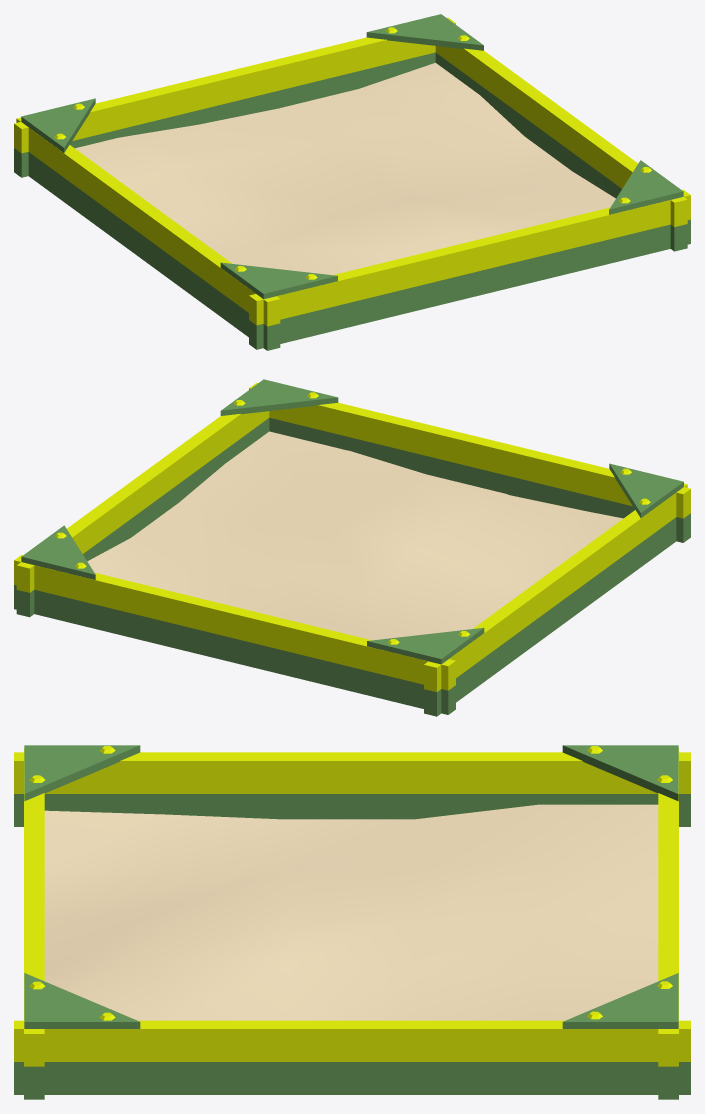
Rendered from sandbox.glb.
3 views of the same model, one above another, from view 1: azimuth 30°, elevation 25°; view 2: azimuth 150°, elevation 25°; view 3: azimuth 270°, elevation 25° (orthographic). The views are drawn at different scales.
Visible parts, largest first — view 1: SM_Sandbox_01; view 2: SM_Sandbox_01; view 3: SM_Sandbox_01.
Boxes of the visible parts, bbox=[...] form: SM_Sandbox_01: bbox=[14, 14, 690, 350]; SM_Sandbox_01: bbox=[14, 379, 690, 716]; SM_Sandbox_01: bbox=[14, 745, 690, 1099].
Size of the model in its own units: 3.31 by 0.4094 by 3.31.
1 material, 1 textured.
